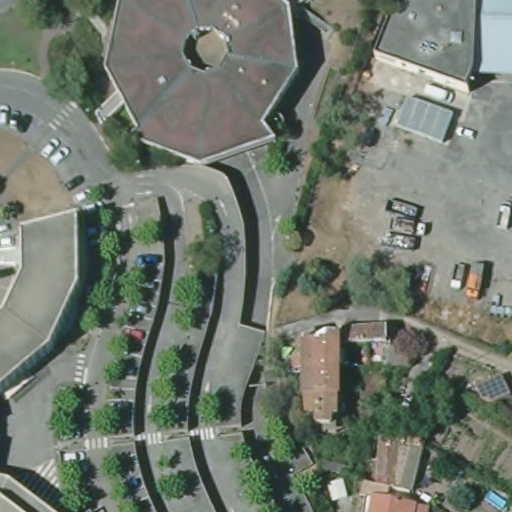pool: (484, 484, 508, 510)
